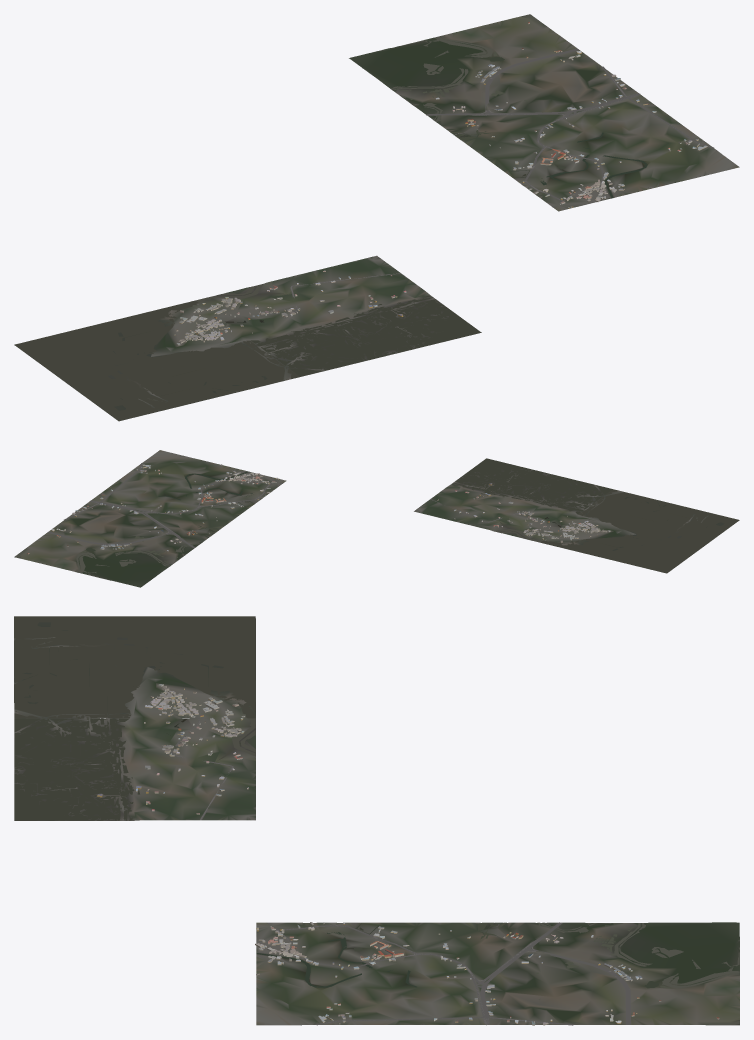
The picture shows the model from 3 angles, top to bottom: view 1: azimuth 30°, elevation 25°; view 2: azimuth 150°, elevation 25°; view 3: azimuth 270°, elevation 25°; orthographic projection. The views are drawn at different scales.
Visible parts, largest first — view 1: ground, water, buildings, roads; view 2: ground, water, buildings, roads; view 3: ground, water, buildings, roads.
Part boxes in pixels (bbox=[...]): ground: bbox=[14, 14, 739, 421]; water: bbox=[14, 14, 647, 420]; buildings: bbox=[174, 22, 707, 345]; roads: bbox=[194, 48, 713, 334]; ground: bbox=[14, 450, 733, 587]; water: bbox=[15, 458, 739, 582]; buildings: bbox=[27, 464, 610, 554]; roads: bbox=[47, 463, 589, 548]; ground: bbox=[14, 616, 739, 1025]; water: bbox=[14, 616, 739, 1024]; buildings: bbox=[97, 684, 719, 1025]; roads: bbox=[170, 700, 630, 1025].
Size of the model in its own units: 5614 by 20.22 by 4205.
